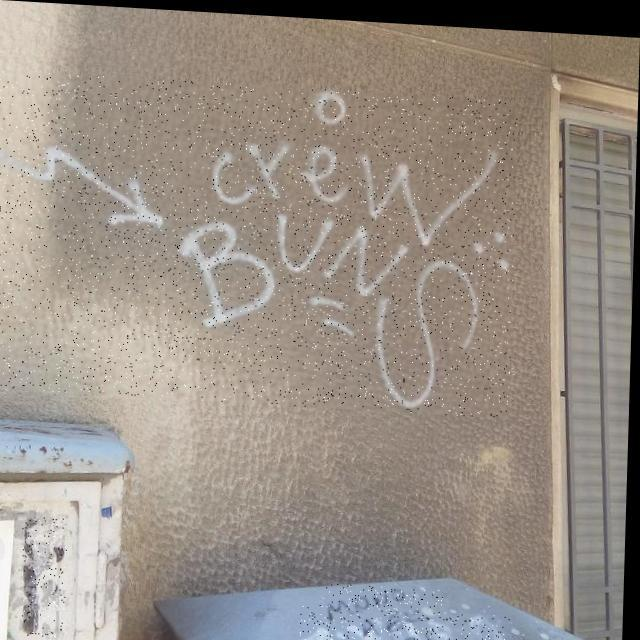-: (0, 70, 518, 412), (303, 600, 513, 640), (328, 579, 448, 640), (23, 515, 71, 638)
